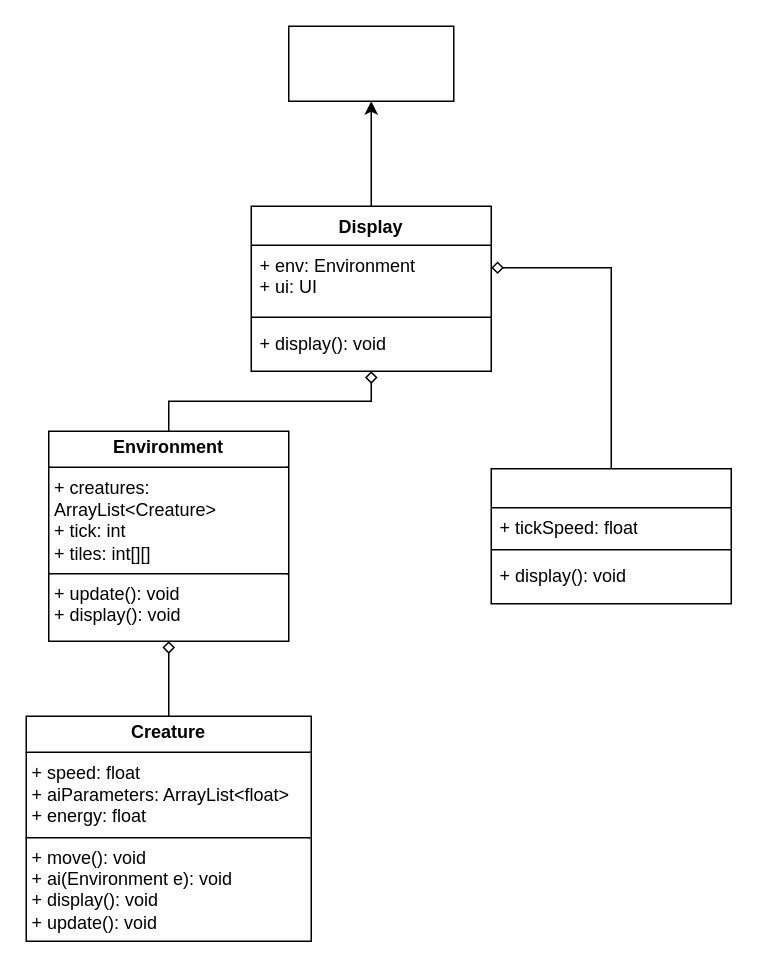
Image size: 758x968. Some labels were removed from this diagram. The box of each missing label's shape, as (x1, y1, x2, y2) in pixels:
Runnable Entry Point: (287, 25, 454, 101)
UI: (490, 467, 731, 604)
